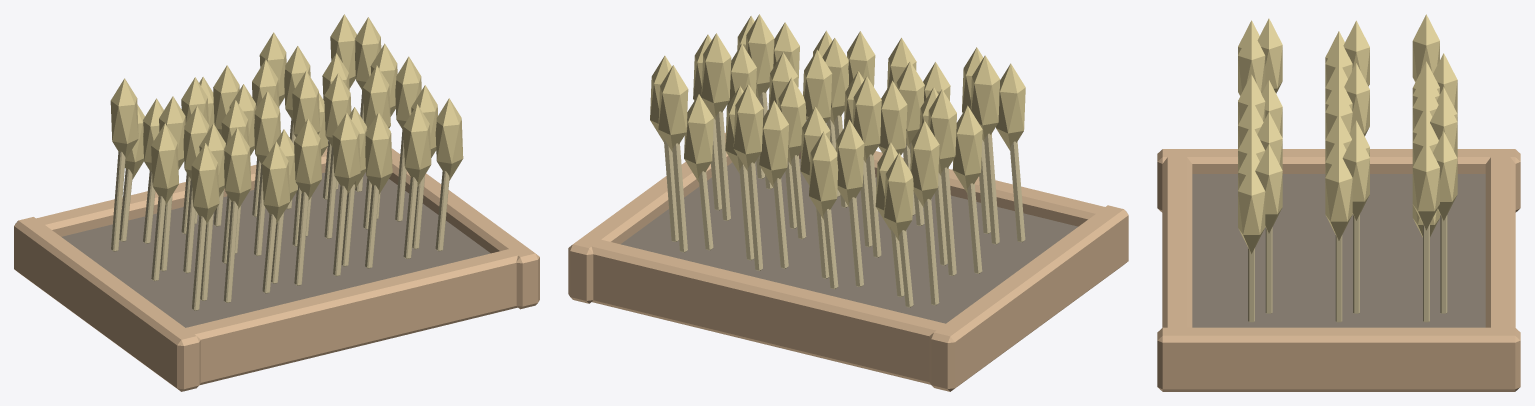
The model's file is grain_plot.fbx.
3 views of the same model, side by side, from view 1: azimuth 30°, elevation 25°; view 2: azimuth 150°, elevation 25°; view 3: azimuth 270°, elevation 25° (orthographic). The views are drawn at different scales.
Parts seen in each view (by area): view 1: grain_plot_mesh; view 2: grain_plot_mesh; view 3: grain_plot_mesh.
Part boxes in pixels (box(x1,y1,x2,y2)): grain_plot_mesh: box(14, 14, 539, 391); grain_plot_mesh: box(568, 14, 1128, 391); grain_plot_mesh: box(1157, 14, 1520, 391).
Size of the model in its own units: 1.82 by 1.04 by 1.46.
